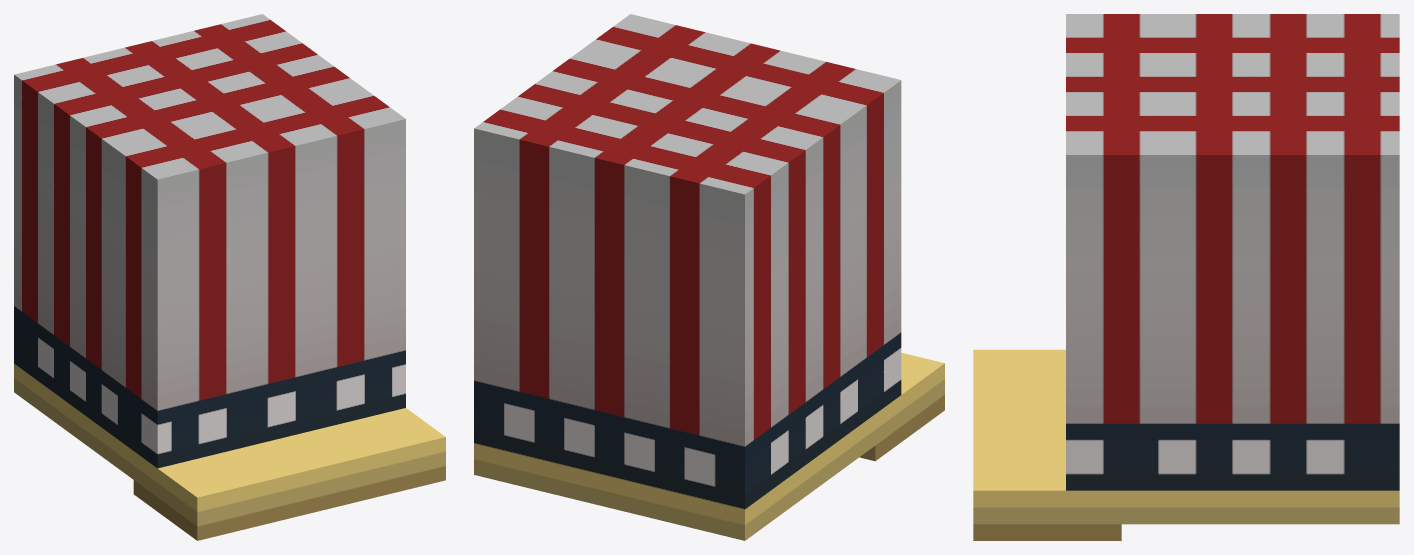
The model's file is Accessories049.fbx.
3 renders of one model, left to right at view 1: azimuth 30°, elevation 25°; view 2: azimuth 150°, elevation 25°; view 3: azimuth 270°, elevation 25°, orthographic. The views are drawn at different scales.
Parts seen in each view (by area): view 1: Accessories049; view 2: Accessories049; view 3: Accessories049.
Boxes of the visible parts, x1,y1,x2,y2 form: Accessories049: [14, 14, 445, 540]; Accessories049: [474, 14, 944, 540]; Accessories049: [973, 14, 1399, 540].
Size of the model in its own units: 18.45 by 23.57 by 23.57.
